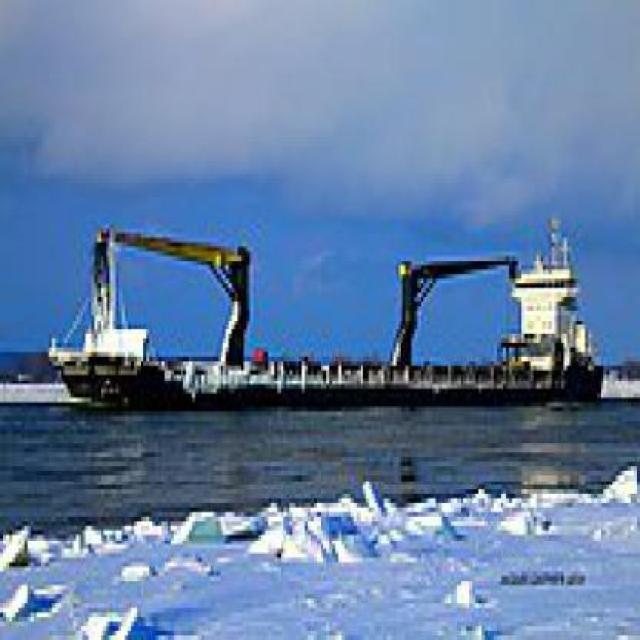container: (43, 211, 614, 417)
